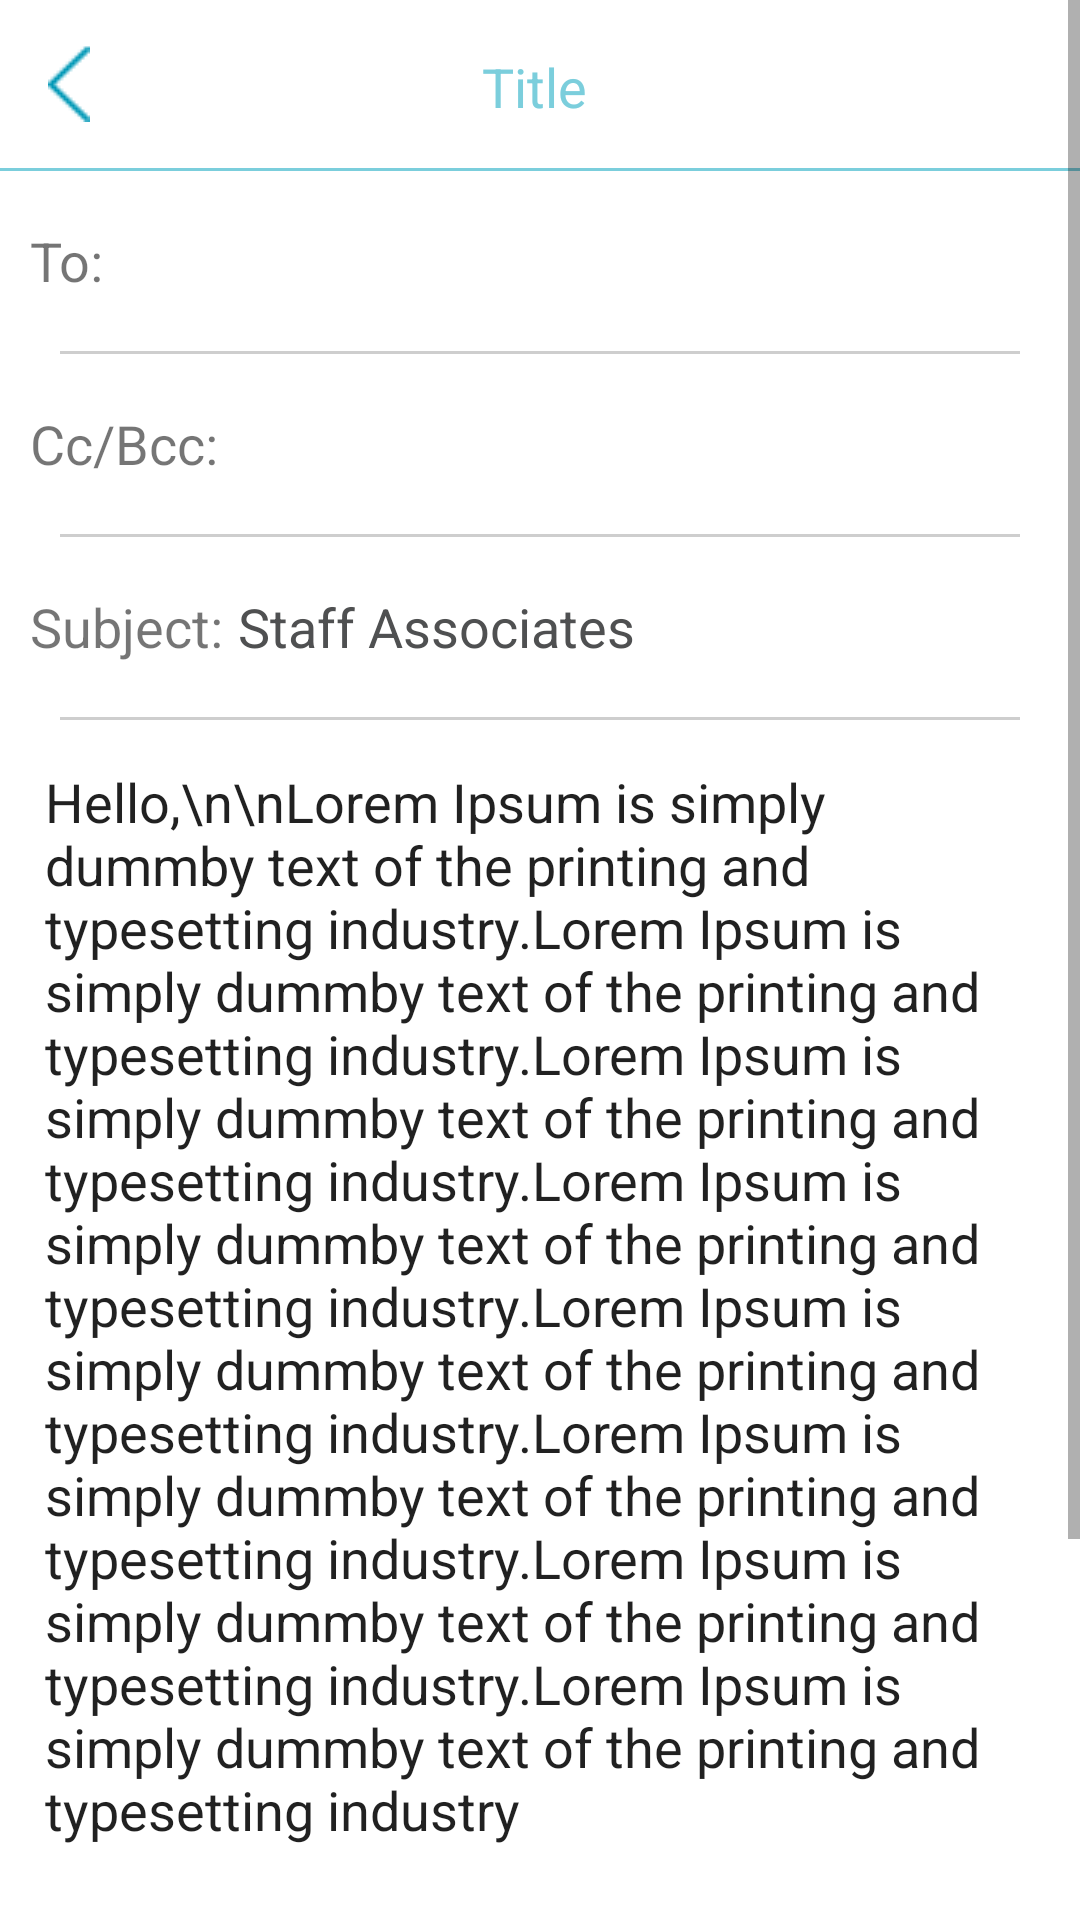

Icon bounding boxes for this 1080w x 1920h phone screenshot, format (x1, y1, x2, y2):
left arrow: (48, 46, 90, 122)
